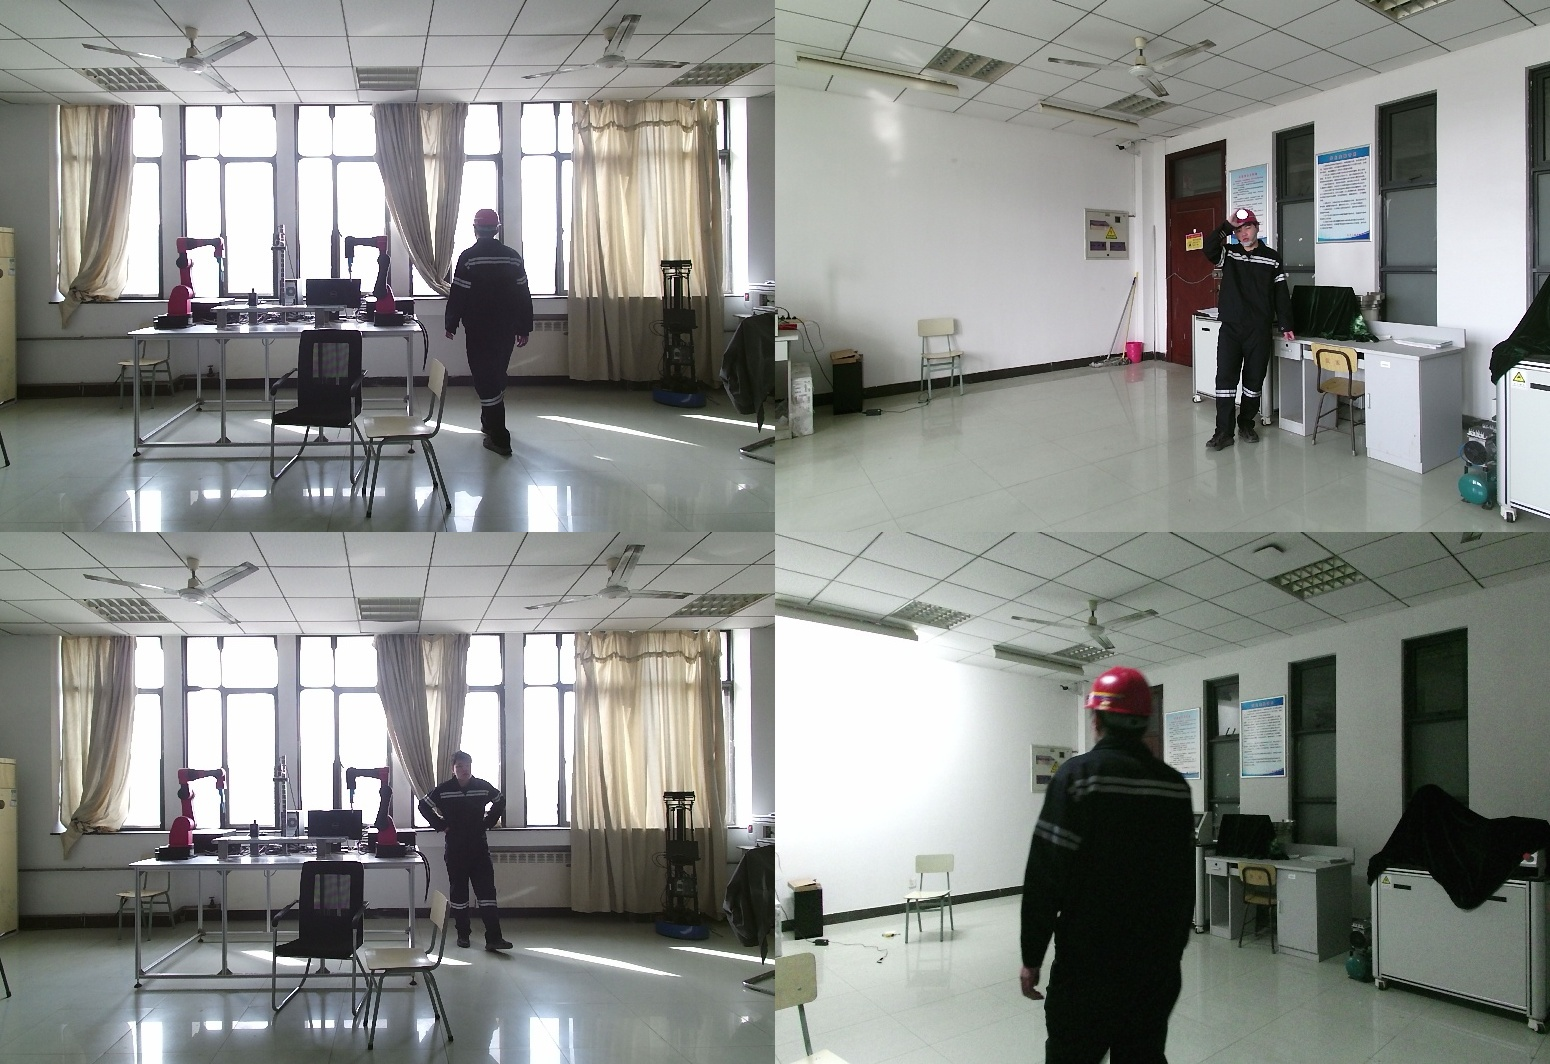person: (1021, 667, 1217, 1064), (449, 206, 541, 457), (1207, 209, 1303, 447), (420, 751, 515, 957)
